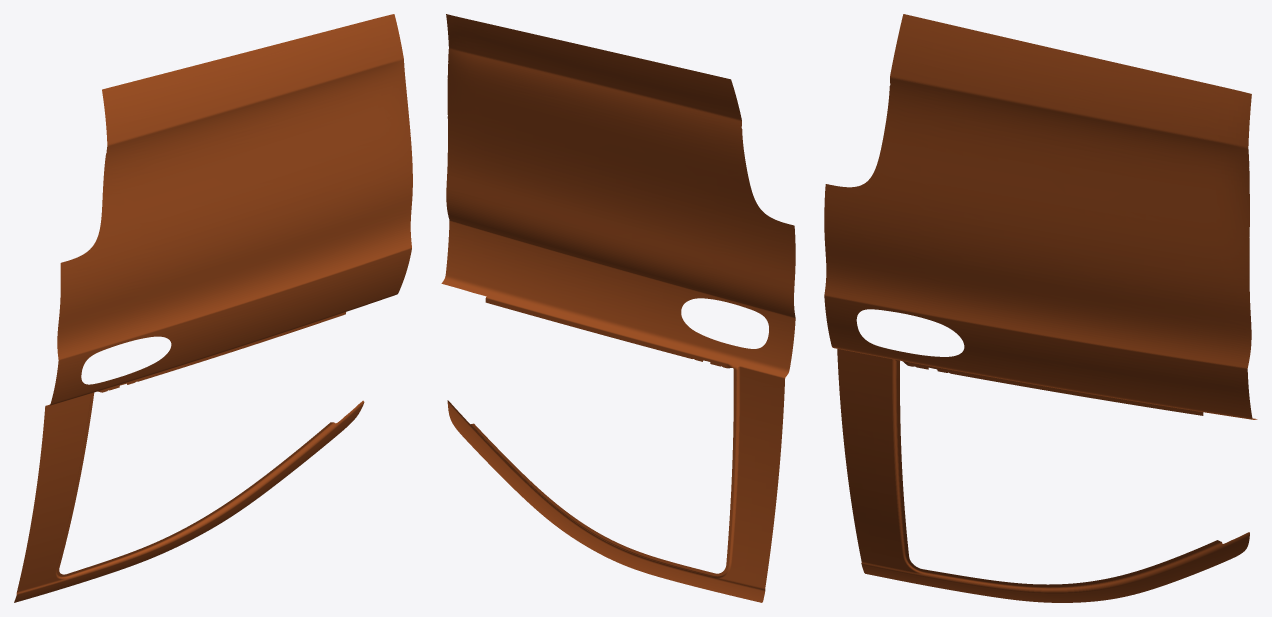
File: car_door_good_1.obj
3 views of the same model, side by side, from view 1: azimuth 30°, elevation 25°; view 2: azimuth 150°, elevation 25°; view 3: azimuth 330°, elevation 25° (orthographic). The views are drawn at different scales.
Parts seen in each view (by area): view 1: Puerta_Vito; view 2: Puerta_Vito; view 3: Puerta_Vito.
Part boxes in pixels (bbox=[...]): Puerta_Vito: bbox=[14, 14, 412, 602]; Puerta_Vito: bbox=[441, 14, 795, 602]; Puerta_Vito: bbox=[824, 14, 1257, 602].
Bounding box in the file's own units: 1.07 × 1.44 × 0.2248.
